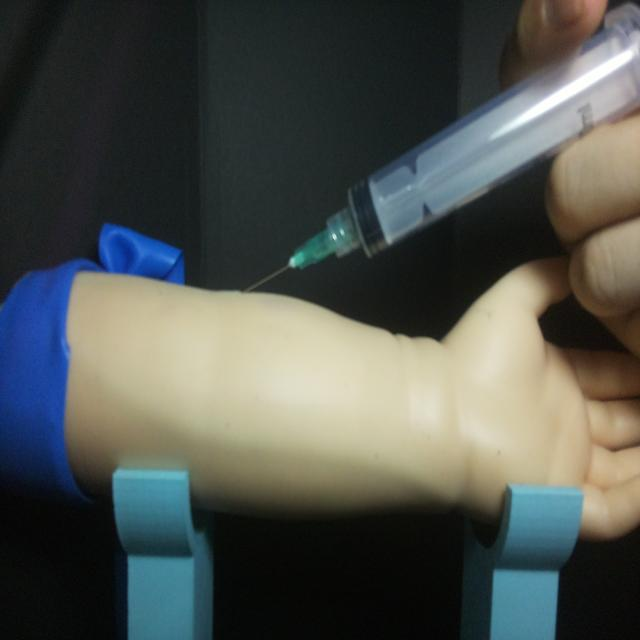17deg: (237, 7, 638, 296)
